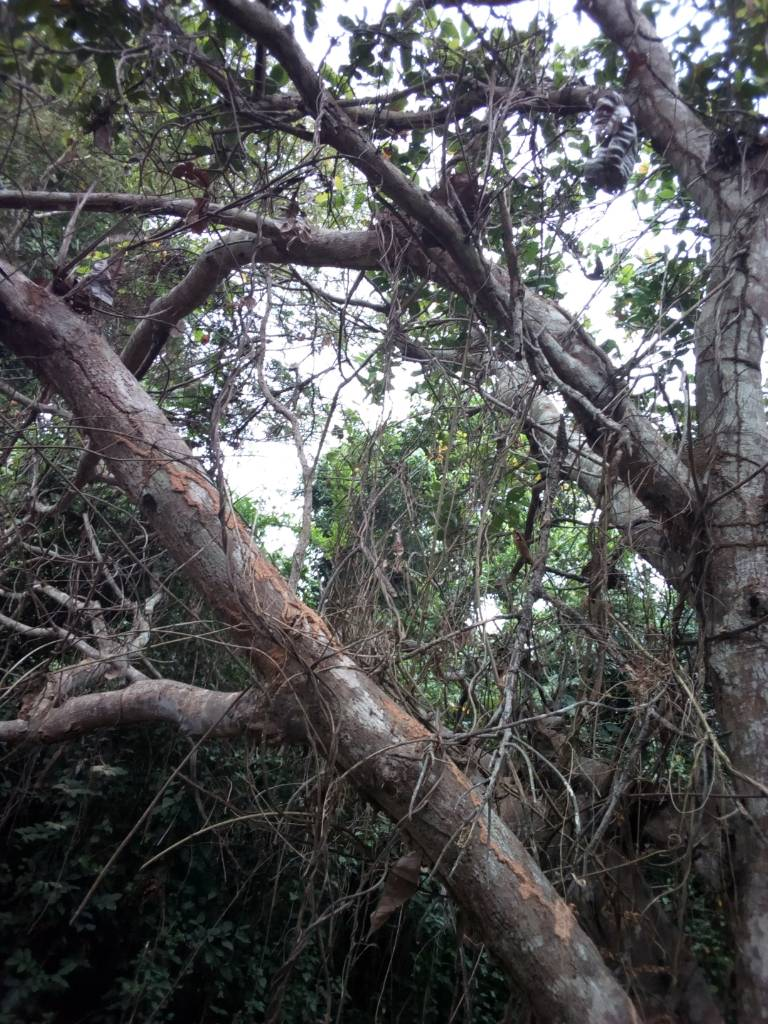Termites: (377, 694, 574, 936), (158, 458, 347, 672)
